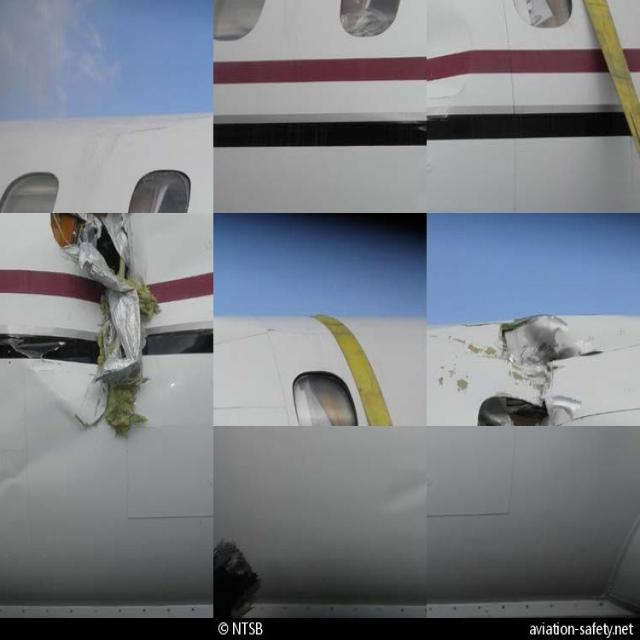crack: (52, 208, 169, 449), (463, 321, 605, 421)
dent: (159, 216, 213, 401), (2, 428, 96, 496), (428, 2, 481, 118), (382, 468, 429, 530)
